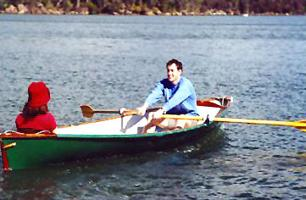person: (136, 59, 199, 131)
